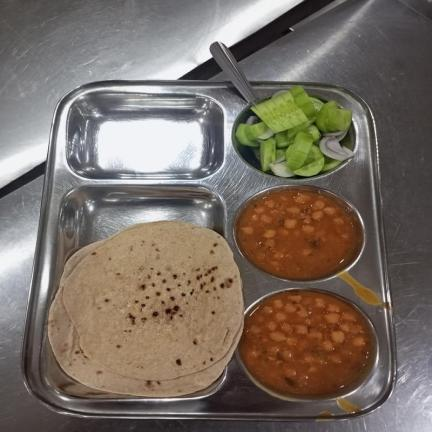Chhole: (240, 288, 370, 397), (239, 189, 356, 280)
Plate: (20, 80, 399, 422)
Roti: (47, 218, 245, 397)
Salad: (236, 85, 354, 179)
